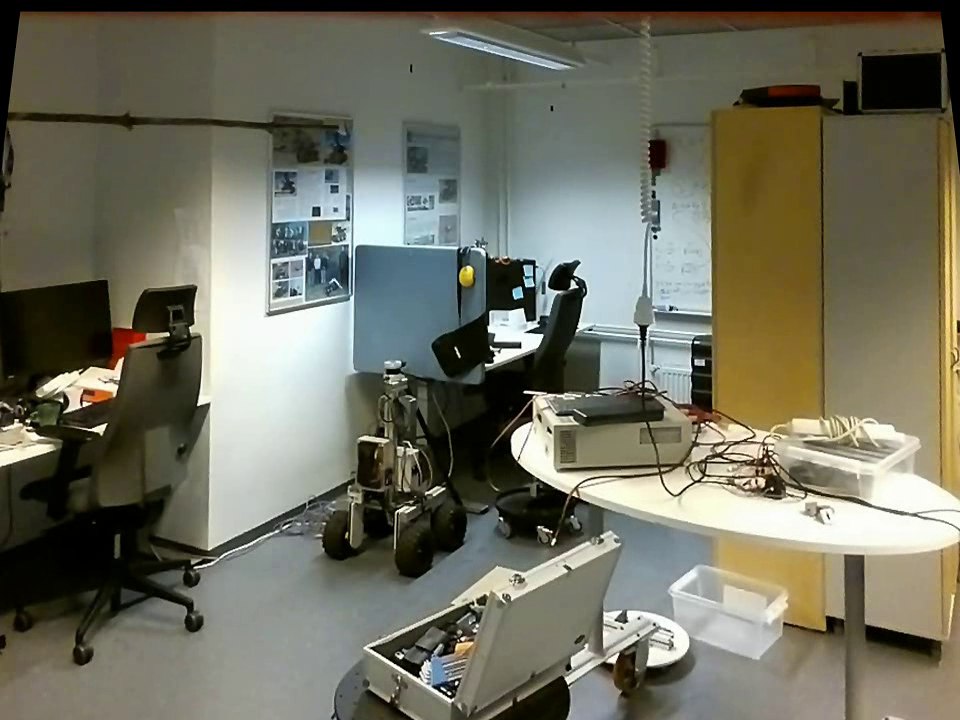branch: (10, 104, 335, 139)
